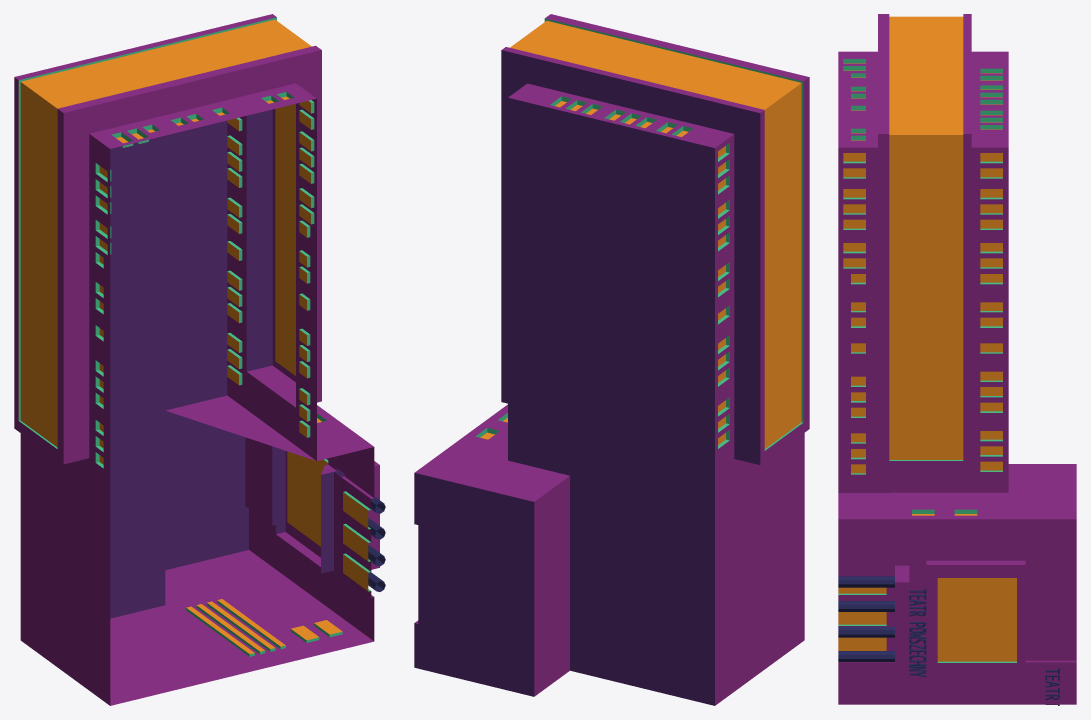
File: Teatr powszechny Tier 3.fbx
3 views of the same model, side by side, from view 1: azimuth 30°, elevation 25°; view 2: azimuth 150°, elevation 25°; view 3: azimuth 270°, elevation 25° (orthographic). The views are drawn at different scales.
Parts seen in each view (by area): view 1: Teatr_obj_0; view 2: Teatr_obj_0; view 3: Teatr_obj_0.
Part boxes in pixels (x1,y1,x2,y2): Teatr_obj_0: [14, 14, 385, 705]; Teatr_obj_0: [414, 14, 809, 705]; Teatr_obj_0: [838, 14, 1076, 705].
Size of the model in its own units: 2.72 by 4.69 by 1.81.
